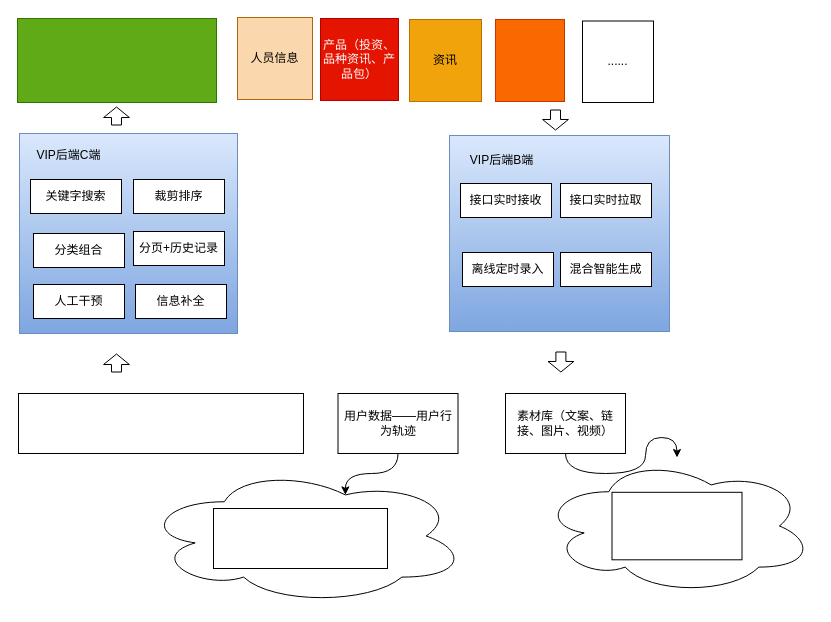
This 831x622 diagram has some shape labels left out. Here are the shapes that lost their labels. From the top down, the centre of each, then its label:
(116,60): 搜索页+详情页
(529,60): 资源
(161,423): 搜索引擎
(300,538): ①数据分析： 用户行为轨迹、偏好趋势 ②运营决策指引 ③专家经验
(676,525): ①素材管理 ②评分体系 ③素材生成：智能合图
